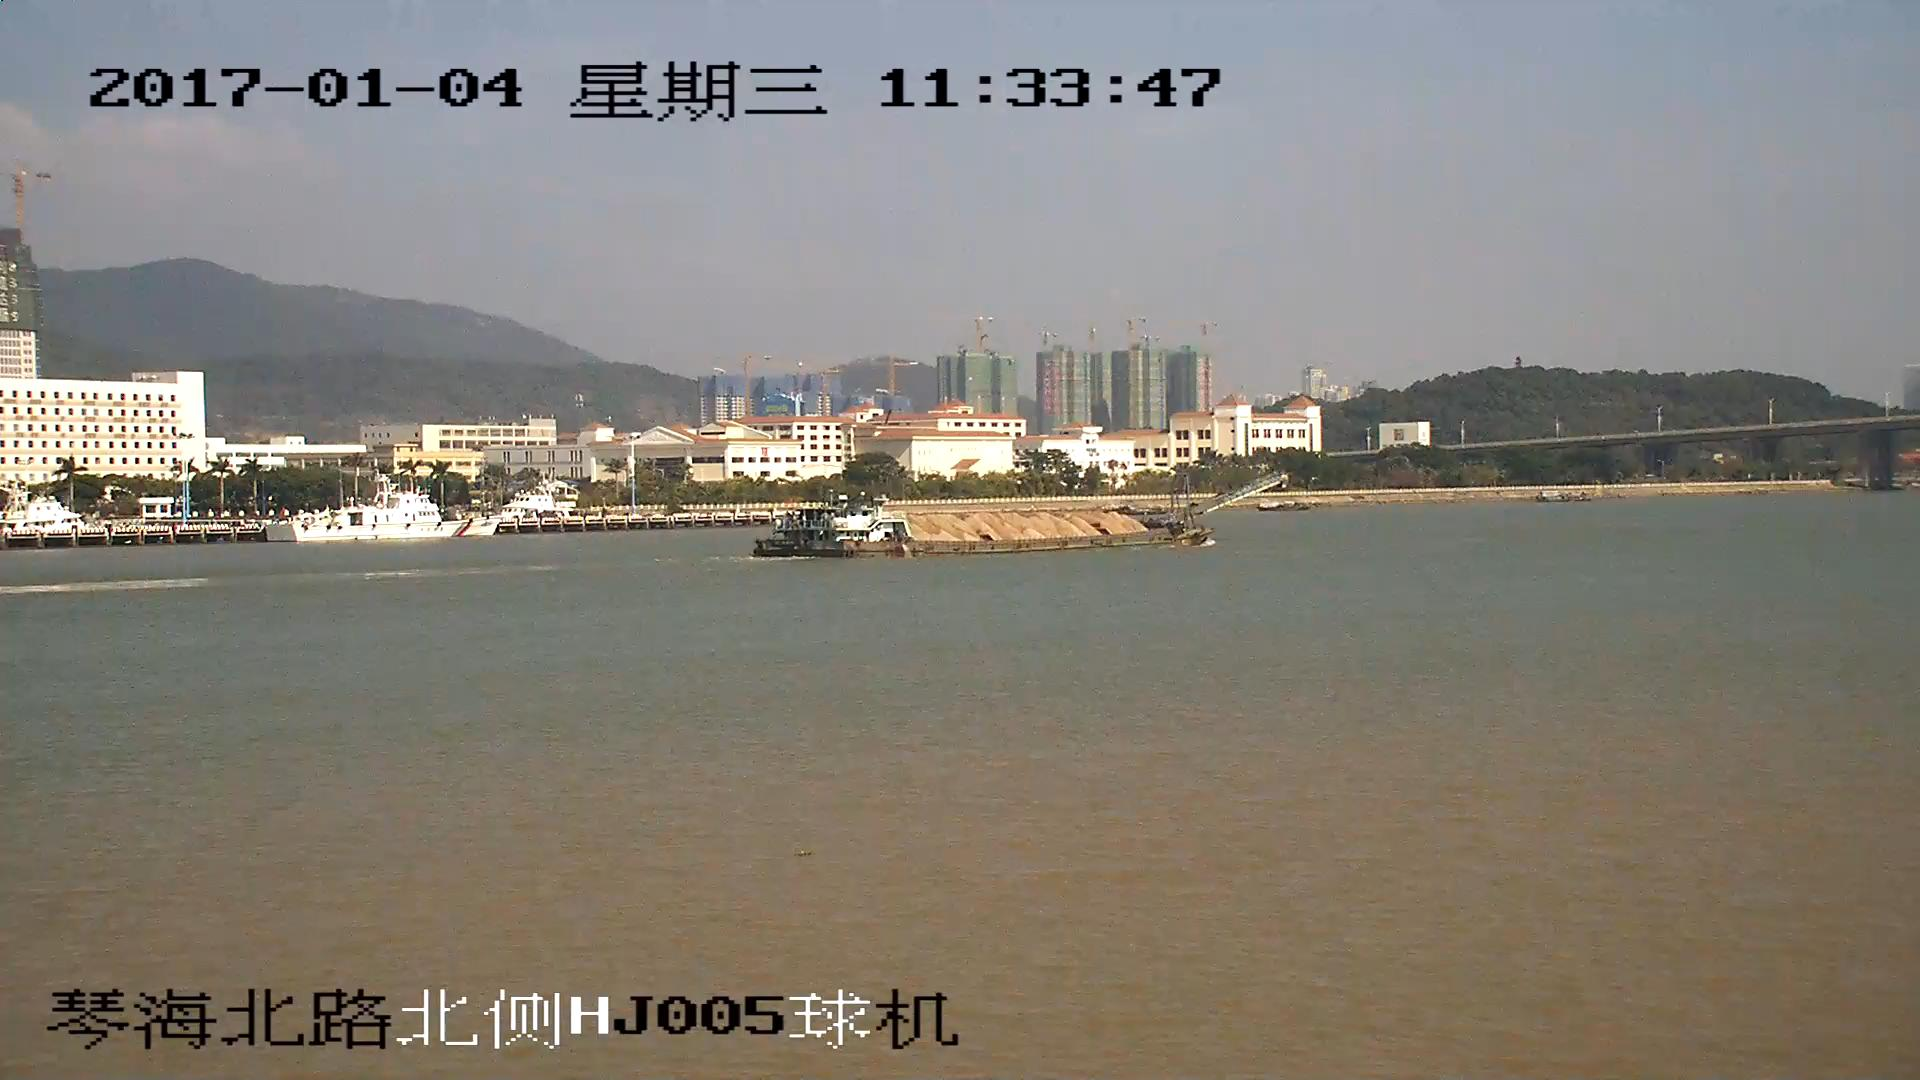ore carrier: (758, 471, 1289, 561)
